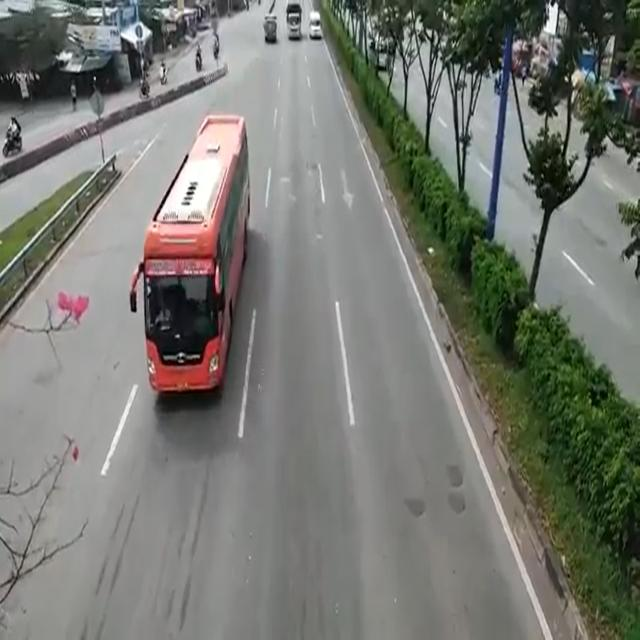bus: (131, 119, 247, 415)
